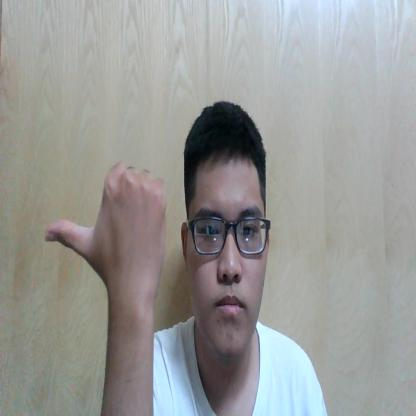right: (43, 159, 169, 309)
